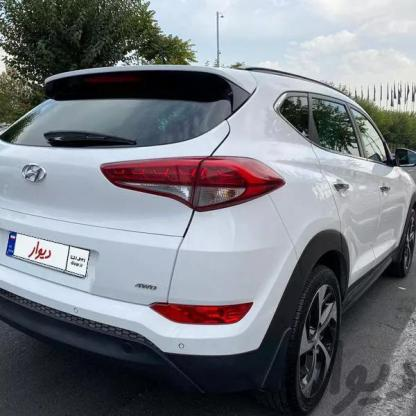Car: (0, 61, 416, 416)
